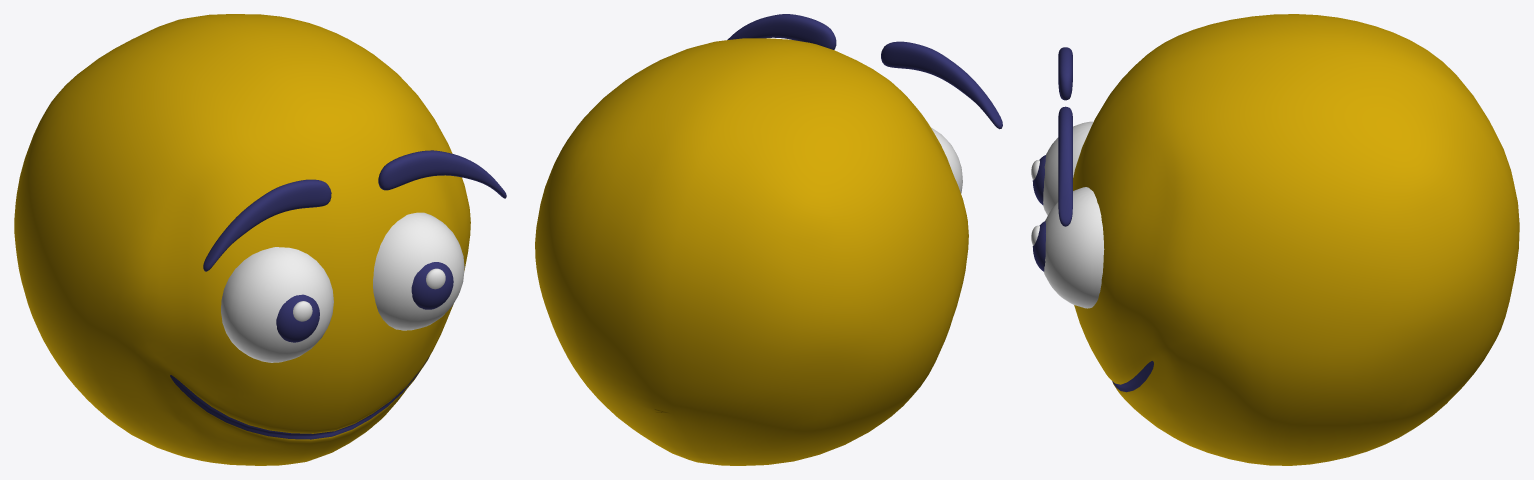
3 views of the same model, side by side, from view 1: azimuth 30°, elevation 25°; view 2: azimuth 150°, elevation 25°; view 3: azimuth 270°, elevation 25° (orthographic). The views are drawn at different scales.
Visible parts, largest first — view 1: Smiley; view 2: Smiley; view 3: Smiley.
Part boxes in pixels (left/top/right/bottom): Smiley: left=14, top=14, right=506, bottom=465; Smiley: left=535, top=14, right=1002, bottom=465; Smiley: left=1031, top=14, right=1519, bottom=465.
Size of the model in its own units: 6402 by 6393 by 6954.
